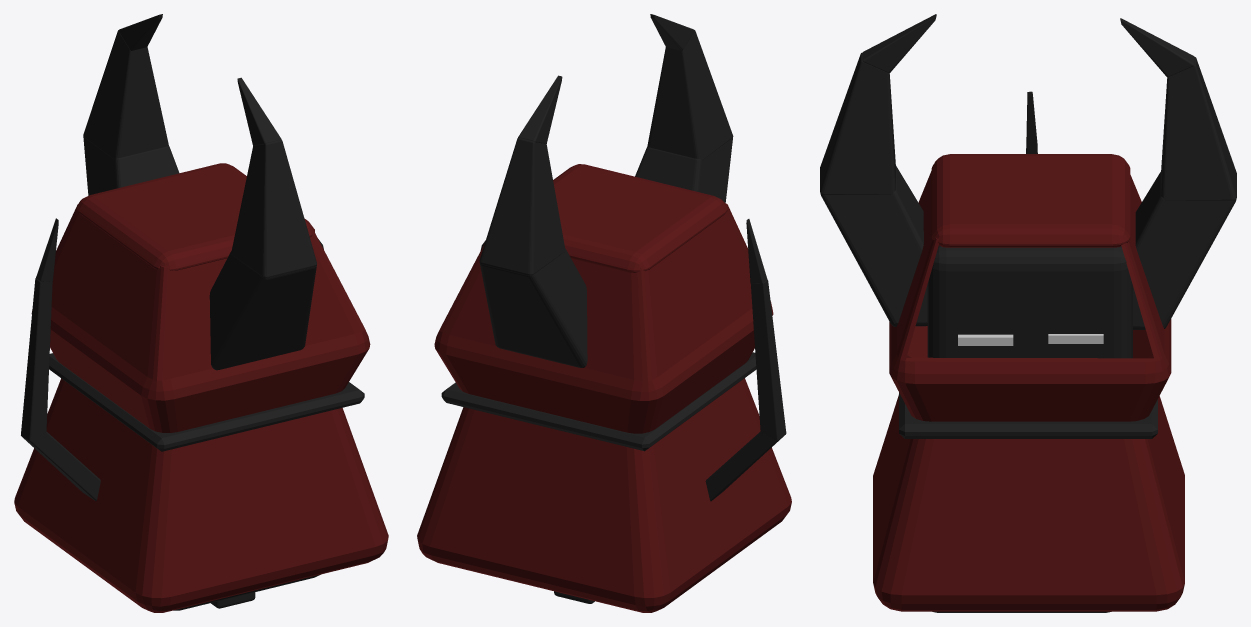
File: p2Pivot.fbx
3 renders of one model, left to right at view 1: azimuth 30°, elevation 25°; view 2: azimuth 150°, elevation 25°; view 3: azimuth 270°, elevation 25°, orthographic. The views are drawn at different scales.
Parts seen in each view (by area): view 1: Cube.110, Cube.106, Cube.105, Cube.109, Cube.104; view 2: Cube.110, Cube.105, Cube.106, Cube.109, Cube.104; view 3: Cube.110, glova.013, Cube.106, Cube.105, Cube.104, Cube.107, Cube.109, Cube.108.
Boxes of the visible parts, x1=… form: Cube.110: x1=14, y1=163, x2=388, y2=612; Cube.106: x1=209, y1=77, x2=316, y2=370; Cube.105: x1=83, y1=14, x2=179, y2=195; Cube.109: x1=21, y1=218, x2=100, y2=500; Cube.104: x1=49, y1=353, x2=364, y2=451; Cube.110: x1=417, y1=164, x2=791, y2=612; Cube.105: x1=479, y1=75, x2=587, y2=367; Cube.106: x1=635, y1=14, x2=733, y2=202; Cube.109: x1=705, y1=219, x2=786, y2=501; Cube.104: x1=441, y1=352, x2=756, y2=451; Cube.110: x1=873, y1=154, x2=1184, y2=611; glova.013: x1=927, y1=245, x2=1132, y2=358; Cube.106: x1=820, y1=14, x2=936, y2=326; Cube.105: x1=1120, y1=18, x2=1236, y2=329; Cube.104: x1=899, y1=392, x2=1157, y2=438; Cube.107: x1=958, y1=334, x2=1013, y2=345; Cube.109: x1=1026, y1=91, x2=1037, y2=153; Cube.108: x1=1048, y1=334, x2=1103, y2=343.
Bounding box in the file's own units: 150 × 254 × 165.
